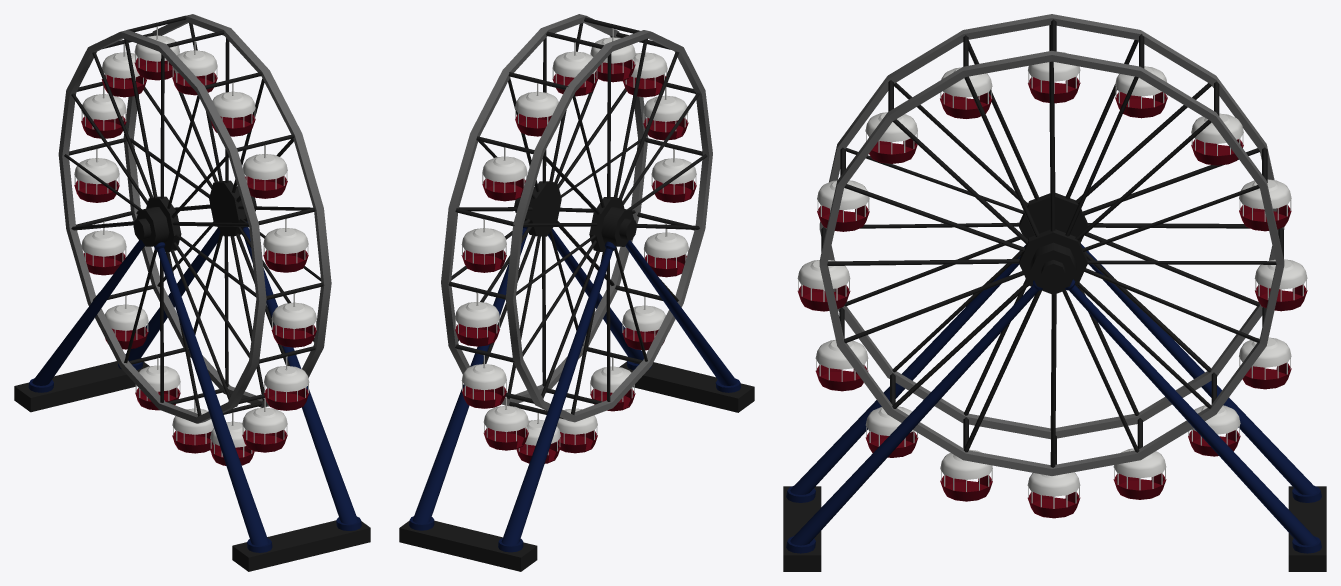
The model's file is SM_FerrisWheel_02.obj.
The picture shows the model from 3 angles, left to right: view 1: azimuth 30°, elevation 25°; view 2: azimuth 150°, elevation 25°; view 3: azimuth 270°, elevation 25°; orthographic projection. The views are drawn at different scales.
Parts seen in each view (by area): view 1: SM_FerrisWheel:SM_FerrisWheel1; view 2: SM_FerrisWheel:SM_FerrisWheel1; view 3: SM_FerrisWheel:SM_FerrisWheel1.
Boxes of the visible parts, x1=… form: SM_FerrisWheel:SM_FerrisWheel1: x1=14, y1=14, x2=370, y2=571; SM_FerrisWheel:SM_FerrisWheel1: x1=399, y1=14, x2=754, y2=571; SM_FerrisWheel:SM_FerrisWheel1: x1=783, y1=14, x2=1326, y2=571.
Bounding box in the file's own units: 14.97 × 50.92 × 49.75.
